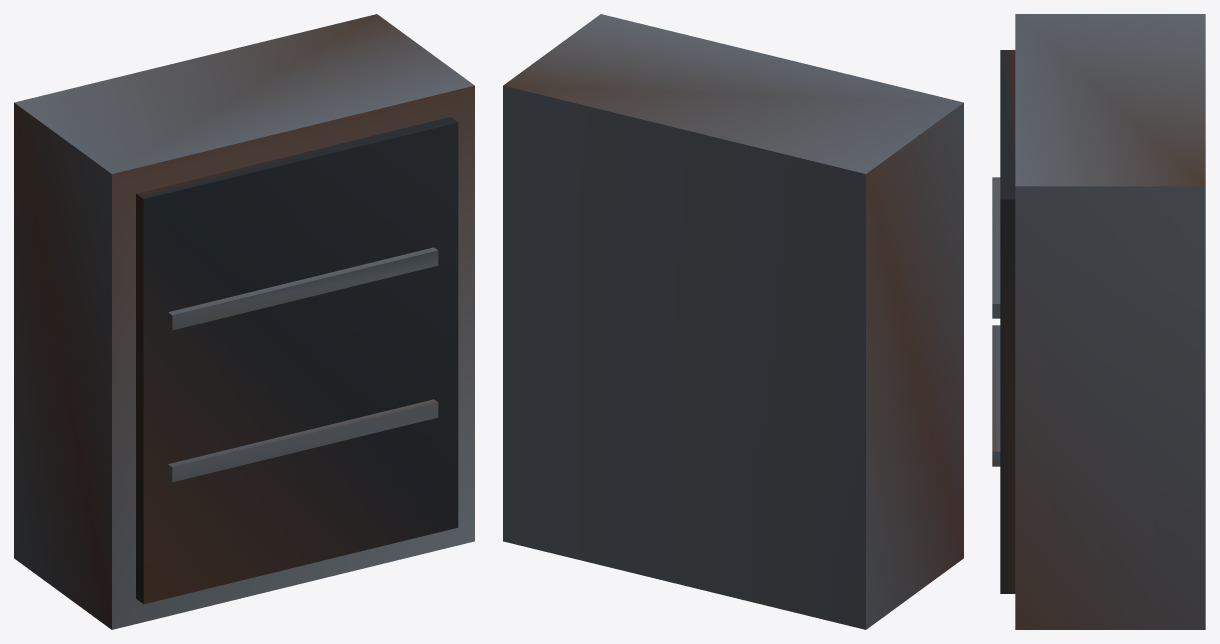
The model's file is cabinet.glb.
The picture shows the model from 3 angles, left to right: view 1: azimuth 30°, elevation 25°; view 2: azimuth 150°, elevation 25°; view 3: azimuth 270°, elevation 25°; orthographic projection. The views are drawn at different scales.
Visible parts, largest first — view 1: cabinet; view 2: cabinet; view 3: cabinet.
Part boxes in pixels (box(x1,y1,x2,y2)): cabinet: box(14, 14, 474, 629); cabinet: box(503, 14, 963, 629); cabinet: box(992, 14, 1205, 629).
Size of the model in its own units: 30 by 36 by 15.7.
